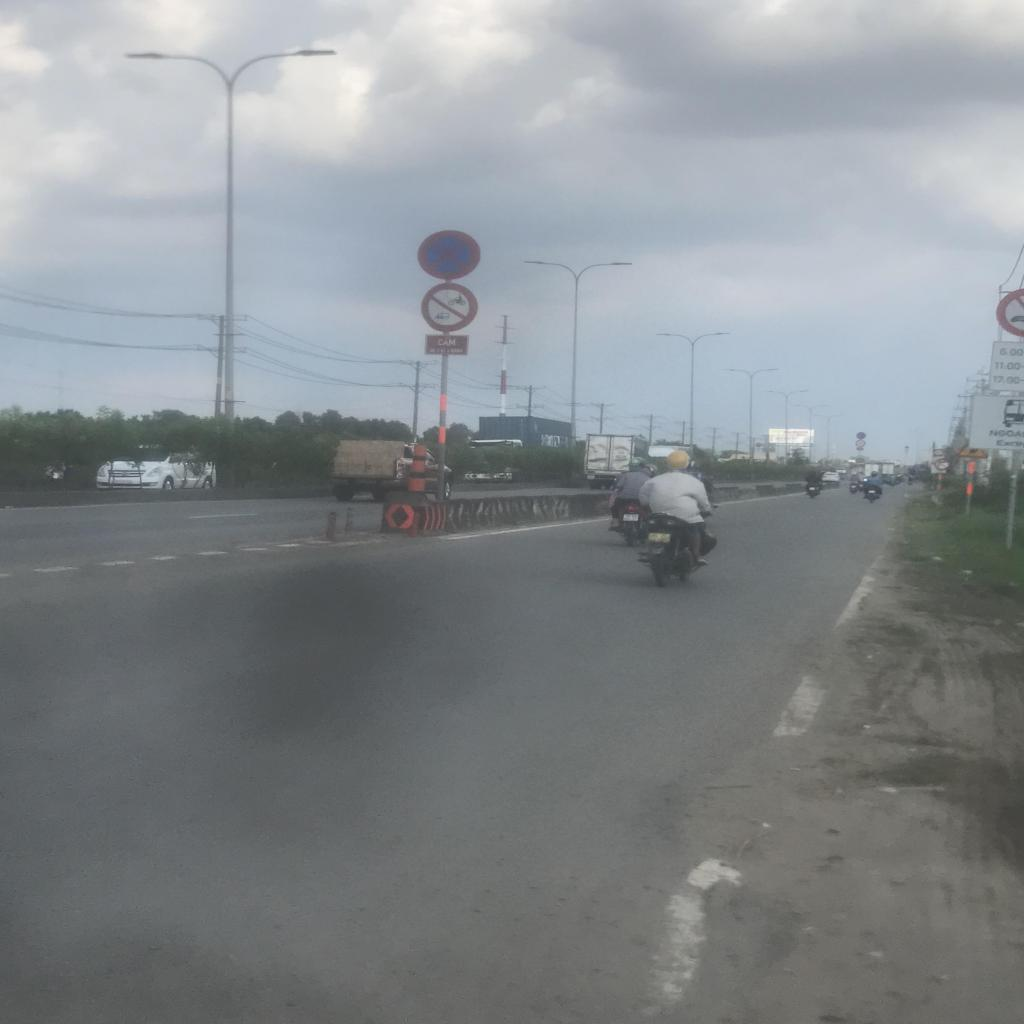cam_dung_xe_va_do_xe: (418, 229, 481, 280)
cam_xe_2_banh_va_xe_3_banh_co_dong_co: (420, 283, 477, 331)
